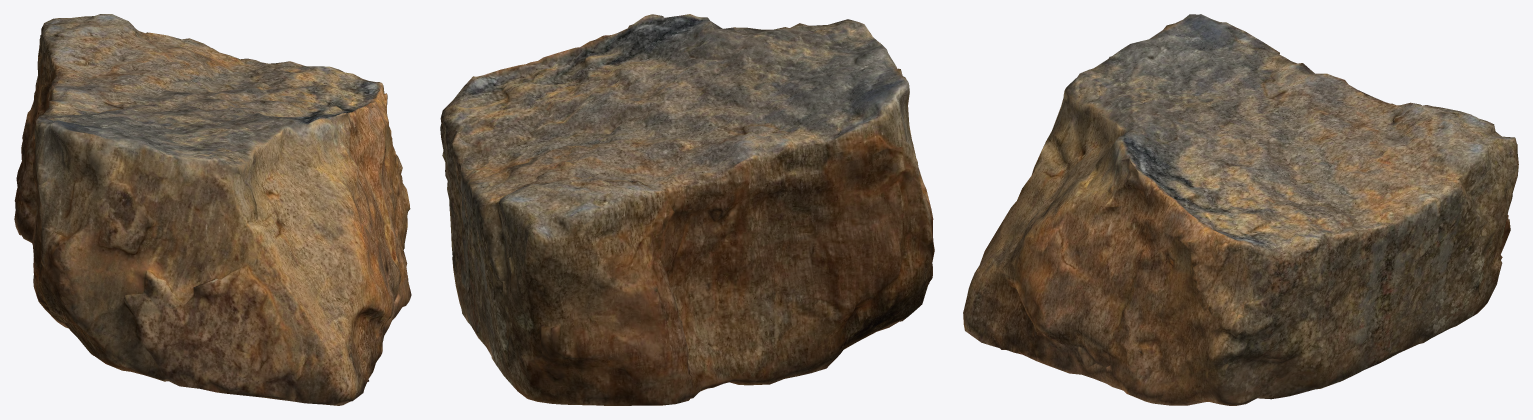
File: namaqualand_boulder_03.glb
The picture shows the model from 3 angles, left to right: view 1: azimuth 30°, elevation 25°; view 2: azimuth 150°, elevation 25°; view 3: azimuth 270°, elevation 25°; orthographic projection. The views are drawn at different scales.
Parts seen in each view (by area): view 1: boulder_03_LOD0; view 2: boulder_03_LOD0; view 3: boulder_03_LOD0.
Boxes of the visible parts, x1,y1,x2,y2 form: boulder_03_LOD0: (14,14,411,405); boulder_03_LOD0: (440,14,934,405); boulder_03_LOD0: (963,14,1518,405).
Size of the model in its own units: 2.4 by 1.47 by 3.06.
Materials: 1 (1 with a texture image).
